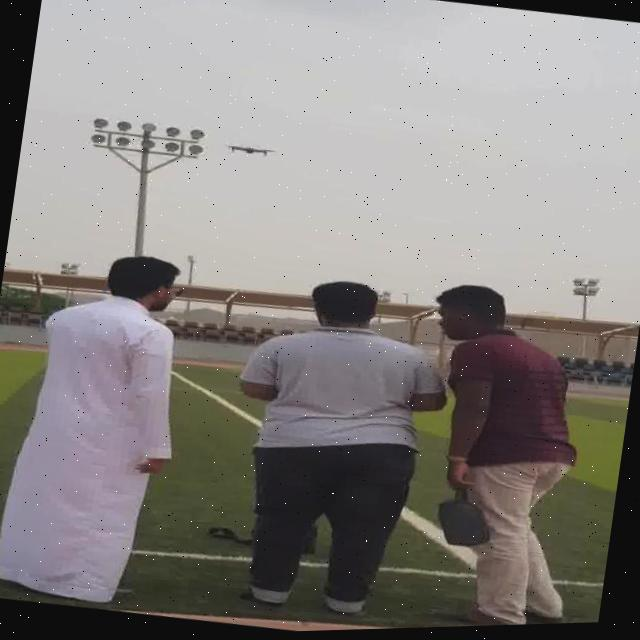drone: (214, 140, 278, 169)
